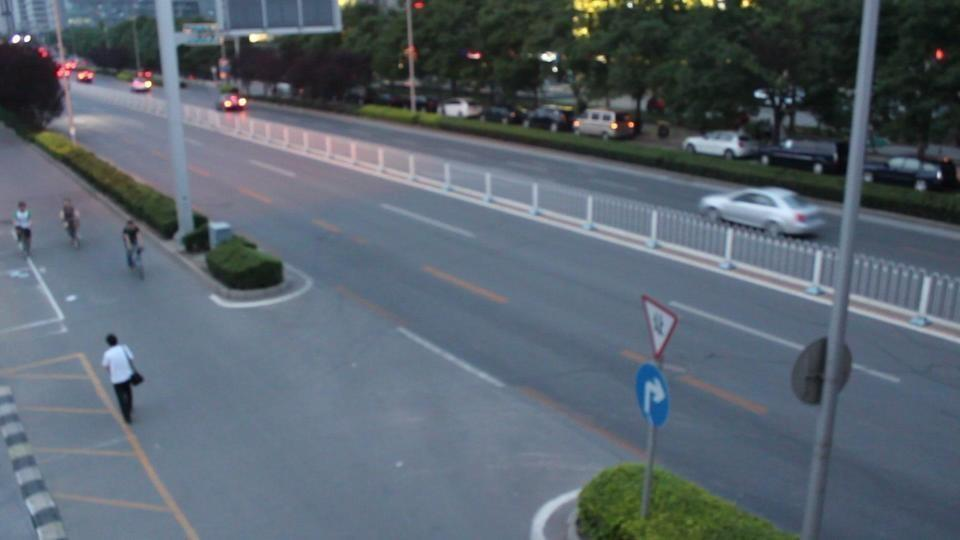car: (697, 187, 835, 241), (862, 154, 958, 191), (756, 139, 845, 175), (682, 130, 758, 161), (573, 109, 641, 141), (523, 106, 575, 133), (438, 99, 483, 119), (216, 91, 249, 113), (481, 106, 517, 125), (129, 73, 155, 93), (76, 69, 95, 83)
